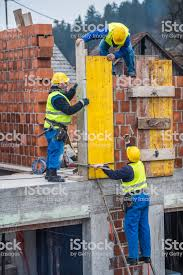helmet: (110, 26, 126, 41), (127, 146, 141, 160), (51, 72, 68, 83)
vest: (123, 161, 149, 196), (48, 90, 70, 128)
